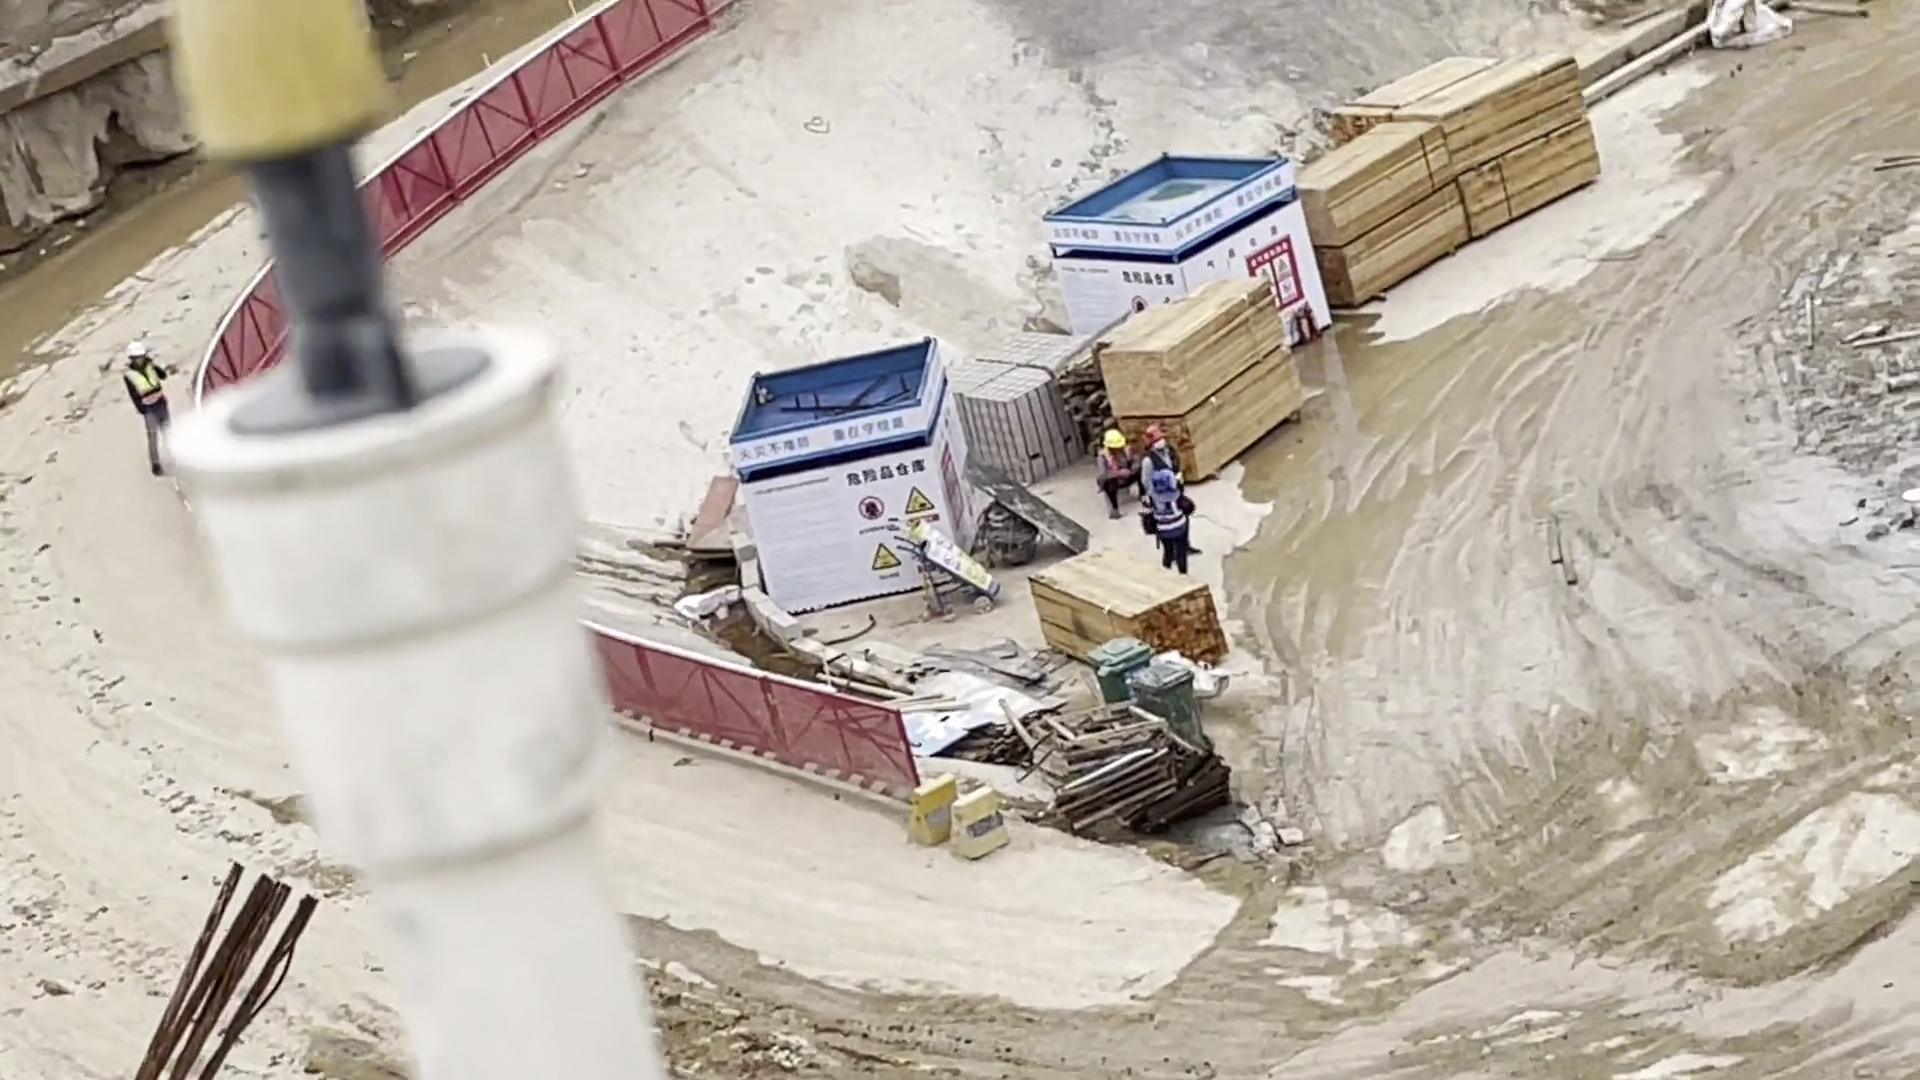board: (1297, 57, 1612, 281)
helmet: (1151, 472, 1179, 492), (1142, 426, 1173, 443), (1102, 431, 1127, 449), (126, 343, 147, 357)
person: (112, 337, 191, 487), (1141, 478, 1215, 582), (1088, 422, 1136, 519), (1138, 425, 1192, 477)
vest: (1149, 498, 1190, 538)
wood: (1103, 278, 1290, 413), (1039, 564, 1213, 652)
